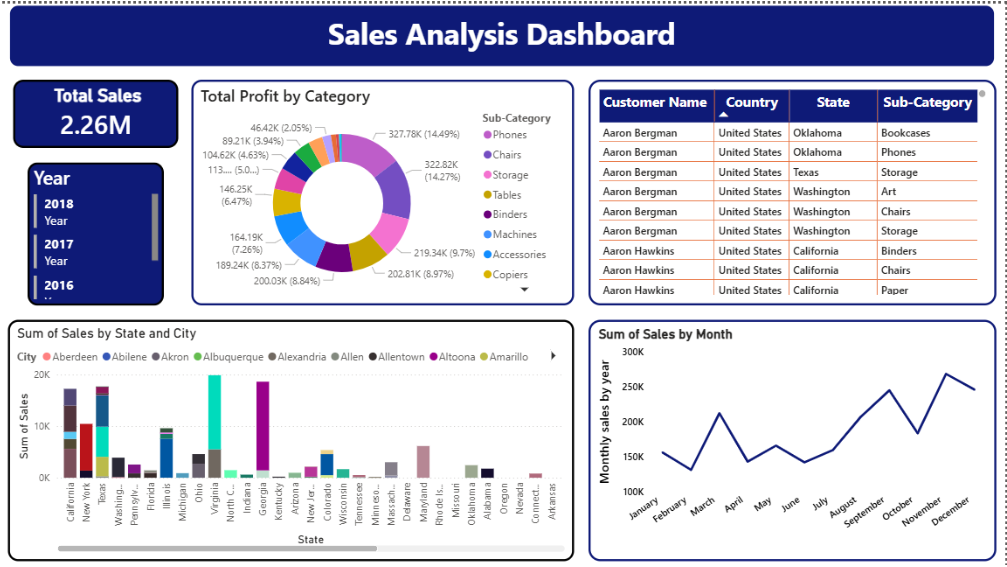

The dashboard page shown, as its layout file describes it:
{"tool":"powerbi","page":{"name":"Page 1","canvas":[1280,720],"ordinal":0},"visuals":[{"type":"card","title":"Total Sales","fields":{"Values":["Super_store_dataset.Sales"]},"box":[18.3,96.7,210,86.7],"z":0},{"type":"lineChart","fields":{"Category":["Super_store_dataset.Order Date.Variation.Date Hierarchy.Year","Super_store_dataset.Order Date.Variation.Date Hierarchy.Quarter","Super_store_dataset.Order Date.Variation.Date Hierarchy.Month","Super_store_dataset.Order Date.Variation.Date Hierarchy.Day"],"Y":["Super_store_dataset.Sales"]},"box":[750,401.7,518.3,306.7],"z":1000},{"type":"multiRowCard","title":"Year","fields":{"Values":["Super_store_dataset.Order Date.Variation.Date Hierarchy.Year","select"]},"box":[36.7,201.7,173.3,181.7],"z":2000},{"type":"tableEx","fields":{"Values":["Super_store_dataset.Customer Name","Super_store_dataset.Country","Super_store_dataset.State","Super_store_dataset.Sub-Category"]},"box":[750,96.7,518.3,286.7],"z":2001},{"type":"donutChart","title":"Total Profit by Category","fields":{"Category":["Super_store_dataset.Sub-Category"],"Y":["Super_store_dataset.Sales"]},"box":[245,96.7,486.7,286.7],"z":2002},{"type":"columnChart","fields":{"Category":["Super_store_dataset.State"],"Y":["Super_store_dataset.Sales"],"Series":["Super_store_dataset.City"]},"box":[11.7,401.7,720,306.7],"z":2003},{"type":"textbox","box":[11.7,0,1256.7,81.7],"z":2004}]}

Visuals, with their boxes in screenshot pixels (x1, y1, x2, y2), scaled from the page's 1280x720 canvas onto the 1007x567 screenshot:
"Total Sales" card: <bbox>14, 76, 180, 144</bbox>
lineChart - Super_store_dataset.Order Date.Variation.Date Hierarchy.Year x Super_store_dataset.Order Date.Variation.Date Hierarchy.Quarter: <bbox>590, 316, 998, 558</bbox>
"Year" multiRowCard: <bbox>29, 159, 165, 302</bbox>
tableEx - Super_store_dataset.Customer Name x Super_store_dataset.Country: <bbox>590, 76, 998, 302</bbox>
"Total Profit by Category" donutChart: <bbox>193, 76, 576, 302</bbox>
columnChart - Super_store_dataset.State x Super_store_dataset.Sales: <bbox>9, 316, 576, 558</bbox>
textbox: <bbox>9, 0, 998, 64</bbox>
